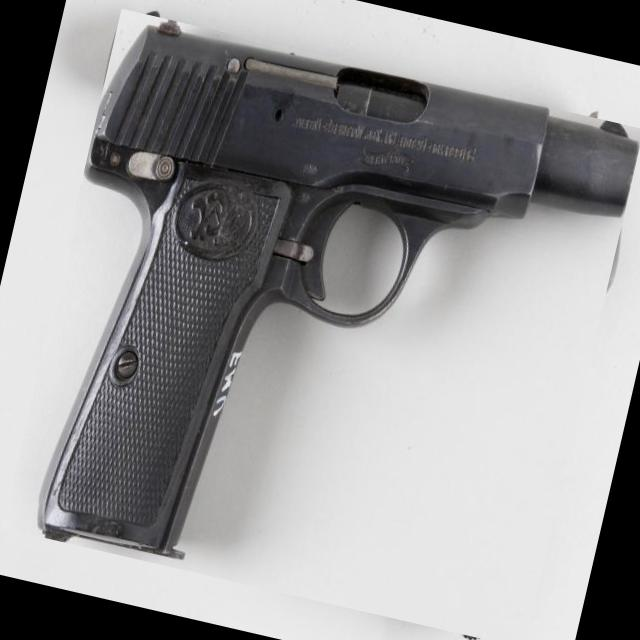Gun: (39, 24, 636, 556)
